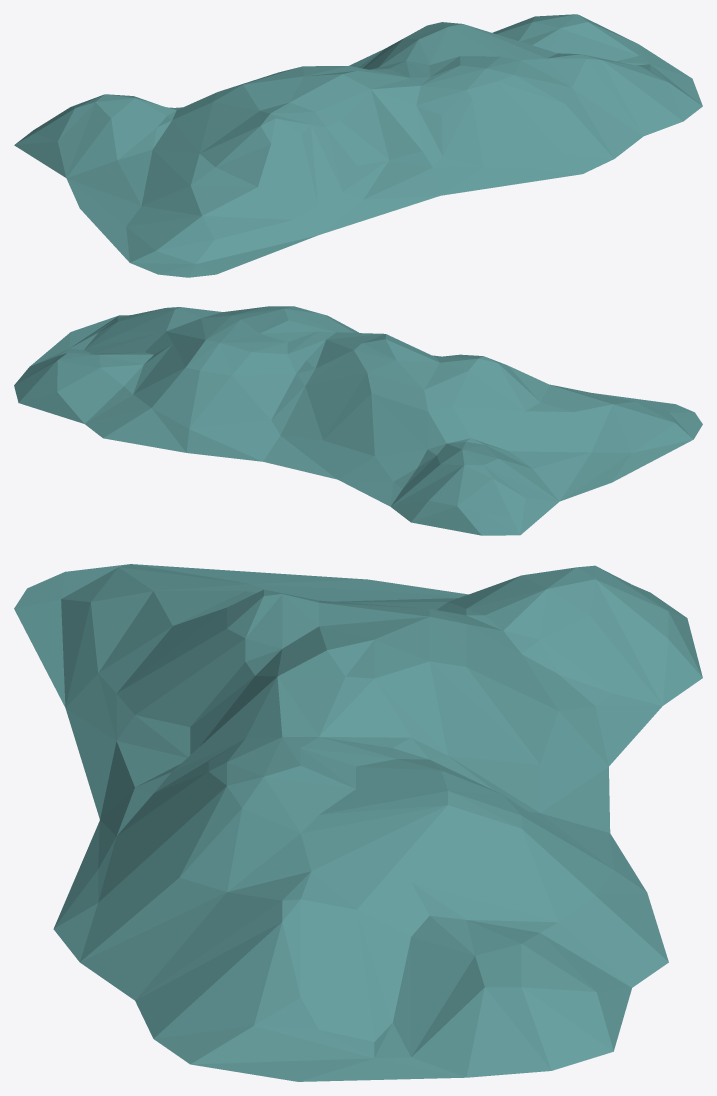
The model's file is SM_Generic_Mountains_Soft_01.fbx.
The picture shows the model from 3 angles, top to bottom: view 1: azimuth 30°, elevation 25°; view 2: azimuth 150°, elevation 25°; view 3: azimuth 270°, elevation 25°; orthographic projection. The views are drawn at different scales.
Visible parts, largest first — view 1: SM_Generic_Mountains_Soft_01; view 2: SM_Generic_Mountains_Soft_01; view 3: SM_Generic_Mountains_Soft_01.
Boxes of the visible parts, x1,y1,x2,y2 form: SM_Generic_Mountains_Soft_01: (14,14,702,277); SM_Generic_Mountains_Soft_01: (14,306,702,535); SM_Generic_Mountains_Soft_01: (14,564,702,1081).
Size of the model in its own units: 39.08 by 5 by 21.97.
1 material, 1 textured.
